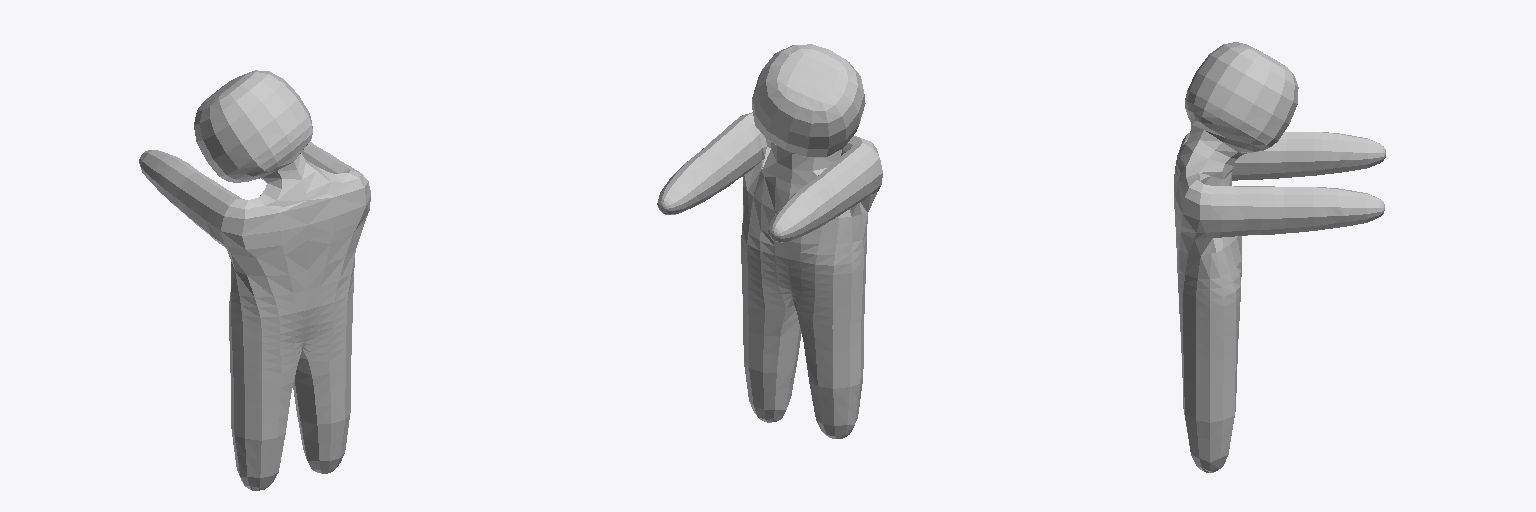
Rendered from armature_test.obj.
The picture shows the model from 3 angles: view 1: azimuth 30°, elevation 25°; view 2: azimuth 150°, elevation 25°; view 3: azimuth 270°, elevation 25°; orthographic projection.
Visible parts, largest first — view 1: Cube; view 2: Cube; view 3: Cube.
Boxes of the visible parts, <box> form: Cube: <box>139,70,370,490</box>; Cube: <box>657,44,882,438</box>; Cube: <box>1174,42,1385,472</box>.
Bounding box in the file's own units: 1.91 × 4.77 × 2.31.